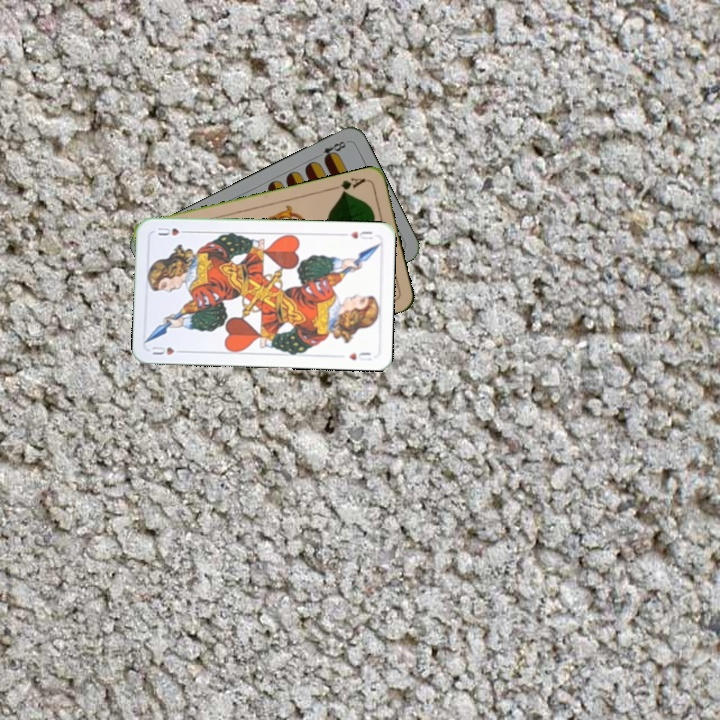E8: (319, 137, 350, 163)
GA: (329, 174, 369, 197)
HU: (148, 342, 187, 357), (339, 227, 375, 242)
